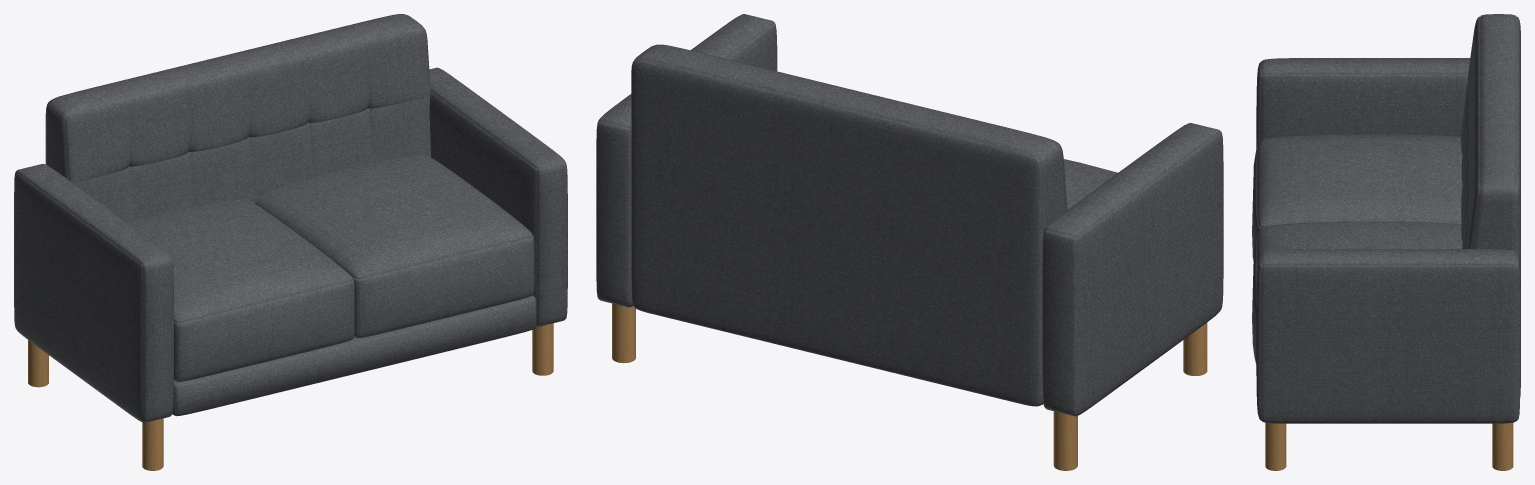
File: sofa.glb
The picture shows the model from 3 angles, left to right: view 1: azimuth 30°, elevation 25°; view 2: azimuth 150°, elevation 25°; view 3: azimuth 270°, elevation 25°; orthographic projection. The views are drawn at different scales.
Parts seen in each view (by area): view 1: sofa_10_03; view 2: sofa_10_03; view 3: sofa_10_03.
Boxes of the visible parts, x1=… form: sofa_10_03: x1=14, y1=14, x2=567, y2=470; sofa_10_03: x1=596, y1=14, x2=1223, y2=470; sofa_10_03: x1=1252, y1=14, x2=1520, y2=470.
Size of the model in its own units: 1.25 by 0.7681 by 0.6771.
1 material, 1 textured.
